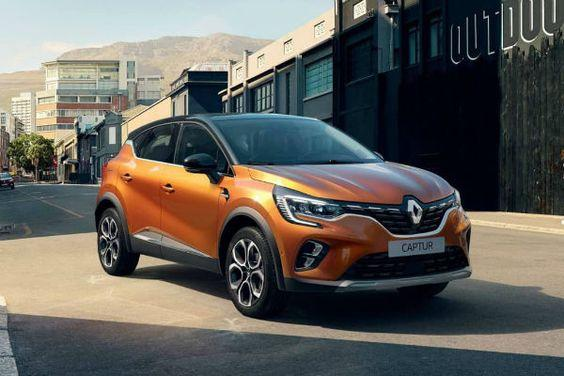Renault: (401, 193, 427, 231)
